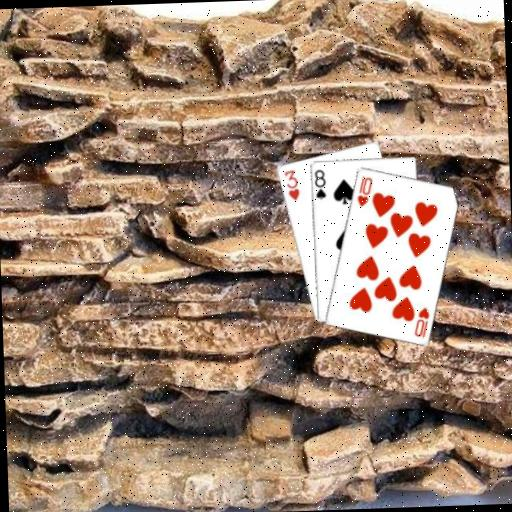10H: (353, 172, 374, 208), (410, 304, 431, 340)
3H: (281, 166, 301, 202)
8S: (312, 167, 327, 201)
